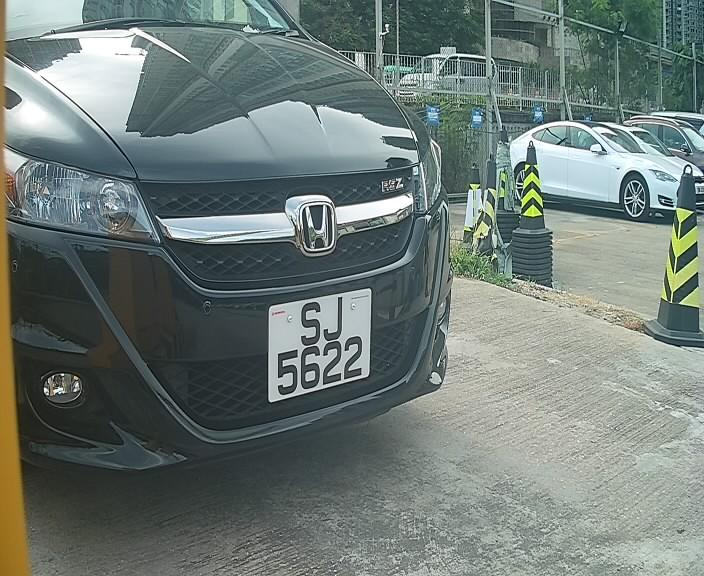License Plate: (255, 283, 378, 412)
